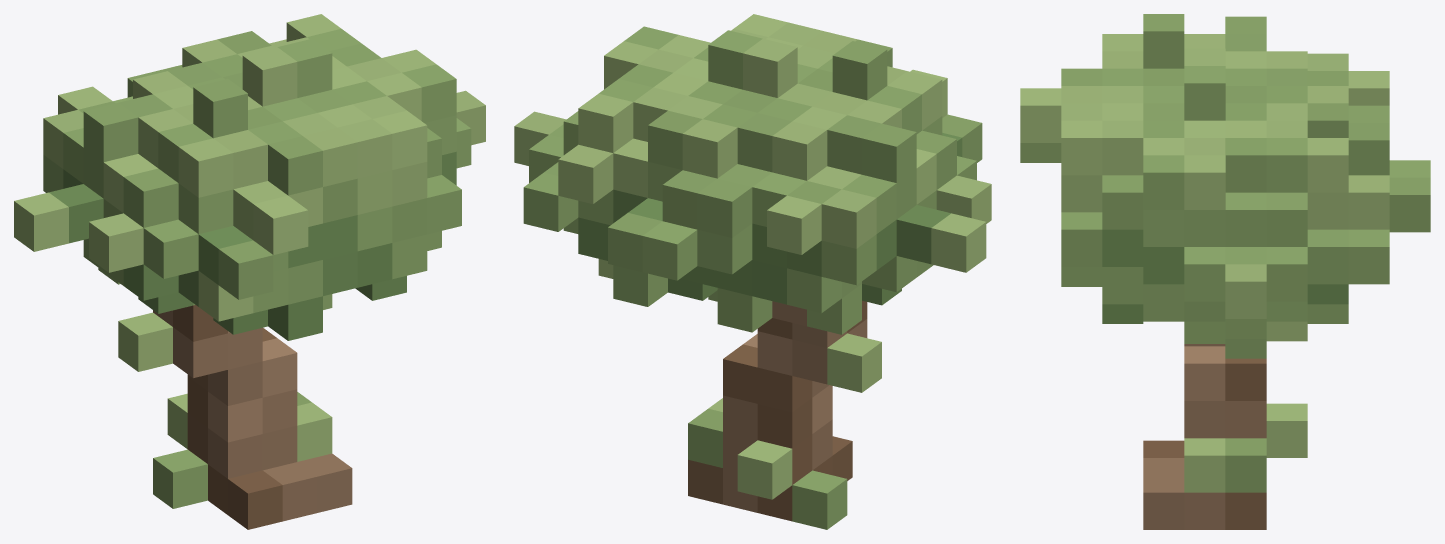
File: apple_mature_2.glb
The picture shows the model from 3 angles, left to right: view 1: azimuth 30°, elevation 25°; view 2: azimuth 150°, elevation 25°; view 3: azimuth 270°, elevation 25°; orthographic projection. The views are drawn at different scales.
Parts seen in each view (by area): view 1: apple_mature_2; view 2: apple_mature_2; view 3: apple_mature_2.
Part boxes in pixels (x1,y1,x2,y2): apple_mature_2: (14,14,485,529); apple_mature_2: (514,14,991,529); apple_mature_2: (1020,14,1430,529).
Bounding box in the file's own units: 13 × 12 × 10.
